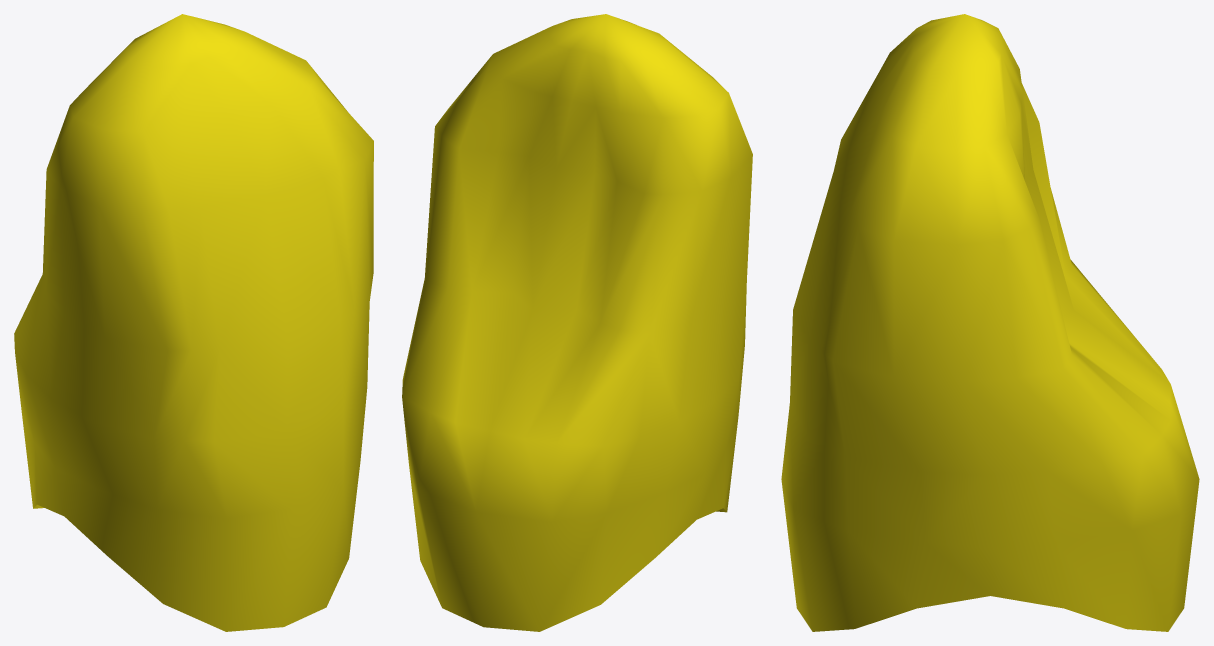
Rendered from D33N_NUC.obj.
The picture shows the model from 3 angles, left to right: view 1: azimuth 30°, elevation 25°; view 2: azimuth 150°, elevation 25°; view 3: azimuth 270°, elevation 25°; orthographic projection. The views are drawn at different scales.
Parts seen in each view (by area): view 1: D33N_NUC; view 2: D33N_NUC; view 3: D33N_NUC.
Part boxes in pixels (x1=…): D33N_NUC: x1=14, y1=14, x2=373, y2=631; D33N_NUC: x1=402, y1=14, x2=752, y2=631; D33N_NUC: x1=781, y1=14, x2=1199, y2=631.
Bounding box in the file's own units: 4.18 × 7.66 × 4.97.
